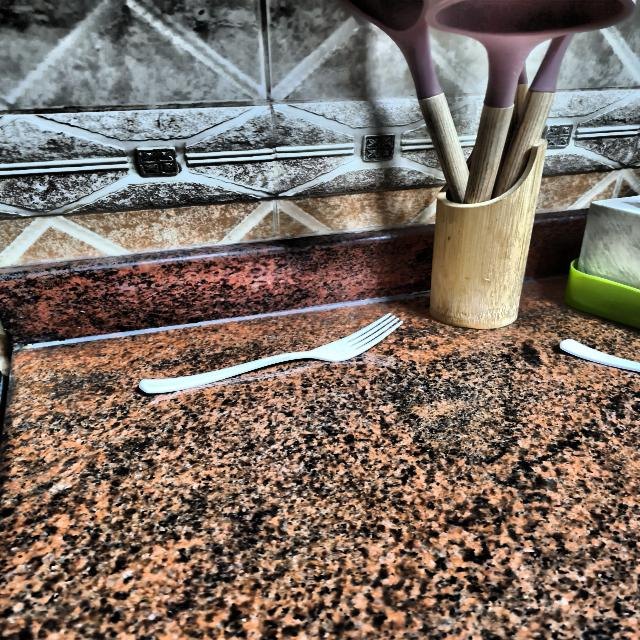plastic utensil: (140, 311, 414, 402)
